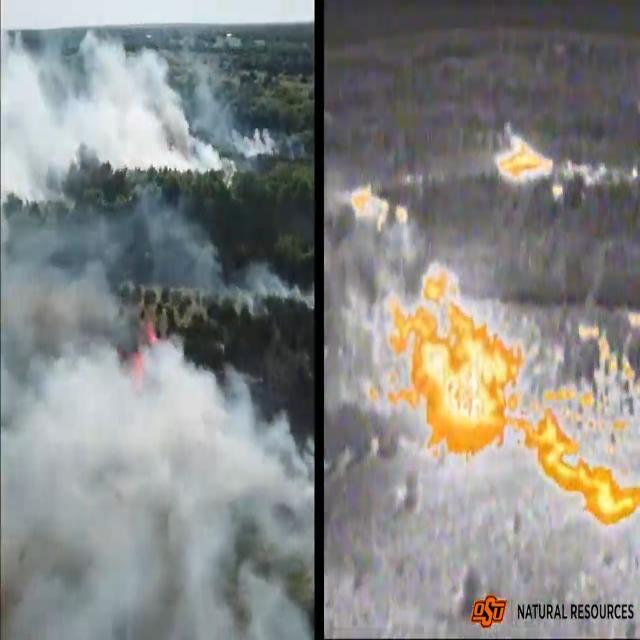fire: (385, 265, 528, 471), (528, 322, 640, 531), (351, 184, 412, 234), (496, 138, 557, 186), (144, 319, 161, 351)
